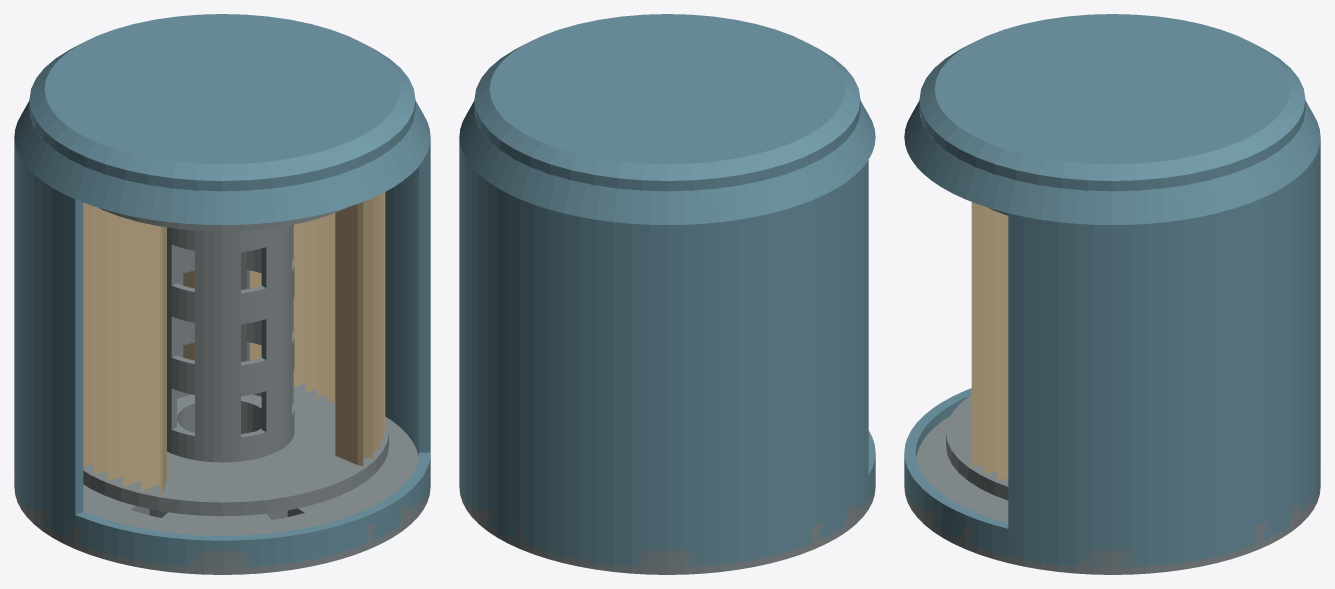
3 renders of one model, left to right at view 1: azimuth 30°, elevation 25°; view 2: azimuth 150°, elevation 25°; view 3: azimuth 270°, elevation 25°, orthographic.
Visible parts, largest first — view 1: WholeCutawayCanisterWall, WholeClosedUpperCupCap, WholeCutawayPleatedCartridge, WholeBoundedPortCentralTube, WholeLowerCartridgeSeat, WholeSixPortAndCentralBoreEndPlate, WholeCentralOpenMountingNeck, WholeUpperCartridgeSeat; view 2: WholeCutawayCanisterWall, WholeClosedUpperCupCap, WholeSixPortAndCentralBoreEndPlate; view 3: WholeCutawayCanisterWall, WholeClosedUpperCupCap, WholeCutawayPleatedCartridge, WholeSixPortAndCentralBoreEndPlate, WholeLowerCartridgeSeat.
Part boxes in pixels (left/top/right/bottom): WholeCutawayCanisterWall: left=14, top=101, right=430, bottom=567; WholeClosedUpperCupCap: left=29, top=14, right=415, bottom=191; WholeCutawayPleatedCartridge: left=83, top=192, right=385, bottom=494; WholeBoundedPortCentralTube: left=167, top=224, right=294, bottom=462; WholeLowerCartridgeSeat: left=83, top=384, right=388, bottom=516; WholeSixPortAndCentralBoreEndPlate: left=14, top=416, right=430, bottom=574; WholeCentralOpenMountingNeck: left=177, top=394, right=261, bottom=433; WholeUpperCartridgeSeat: left=99, top=208, right=345, bottom=231; WholeCutawayCanisterWall: left=459, top=101, right=875, bottom=567; WholeClosedUpperCupCap: left=474, top=14, right=860, bottom=191; WholeSixPortAndCentralBoreEndPlate: left=459, top=464, right=875, bottom=574; WholeCutawayCanisterWall: left=904, top=101, right=1320, bottom=567; WholeClosedUpperCupCap: left=919, top=14, right=1305, bottom=191; WholeCutawayPleatedCartridge: left=971, top=202, right=1008, bottom=480; WholeSixPortAndCentralBoreEndPlate: left=904, top=416, right=1320, bottom=574; WholeLowerCartridgeSeat: left=946, top=395, right=1008, bottom=500.
Bounding box in the file's own units: 0.11 × 0.118 × 0.11.
